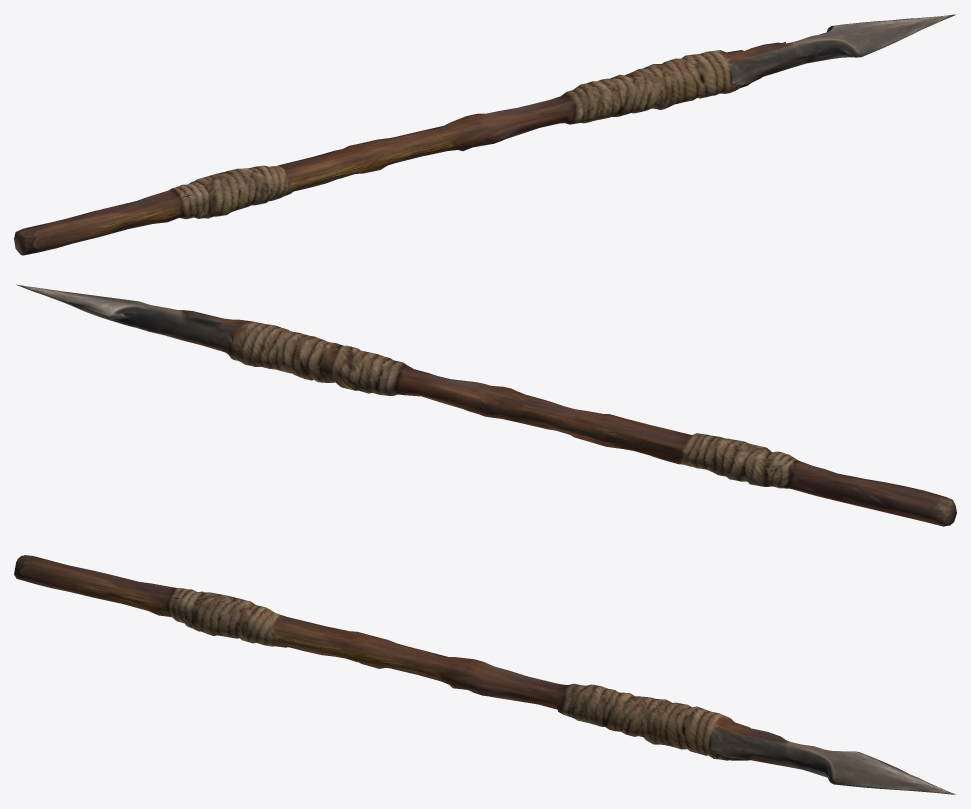
File: Arrow.fbx
The picture shows the model from 3 angles, top to bottom: view 1: azimuth 30°, elevation 25°; view 2: azimuth 150°, elevation 25°; view 3: azimuth 330°, elevation 25°; orthographic projection.
Parts seen in each view (by area): view 1: Arrow; view 2: Arrow; view 3: Arrow.
Boxes of the visible parts, x1=… form: Arrow: x1=14, y1=14, x2=956, y2=255; Arrow: x1=16, y1=284, x2=956, y2=526; Arrow: x1=14, y1=555, x2=956, y2=794.
Bounding box in the file's own units: 100 × 4.26 × 5.15.
1 material, 1 textured.
